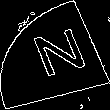N_S: (21, 24, 89, 86)
